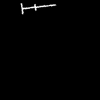double_crochet: (21, 4, 53, 13)
